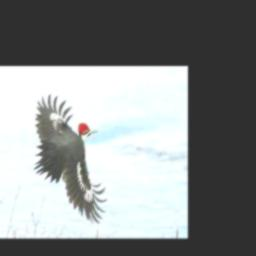Woodpecker: (34, 93, 108, 223)
